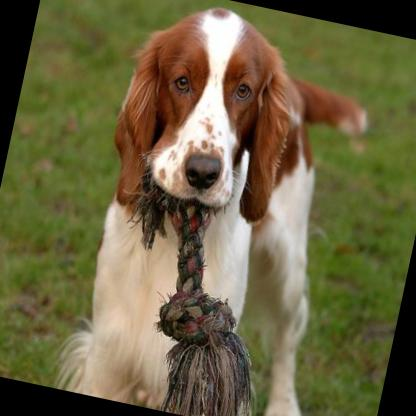Welsh_springer_spaniel: (48, 0, 382, 416)
